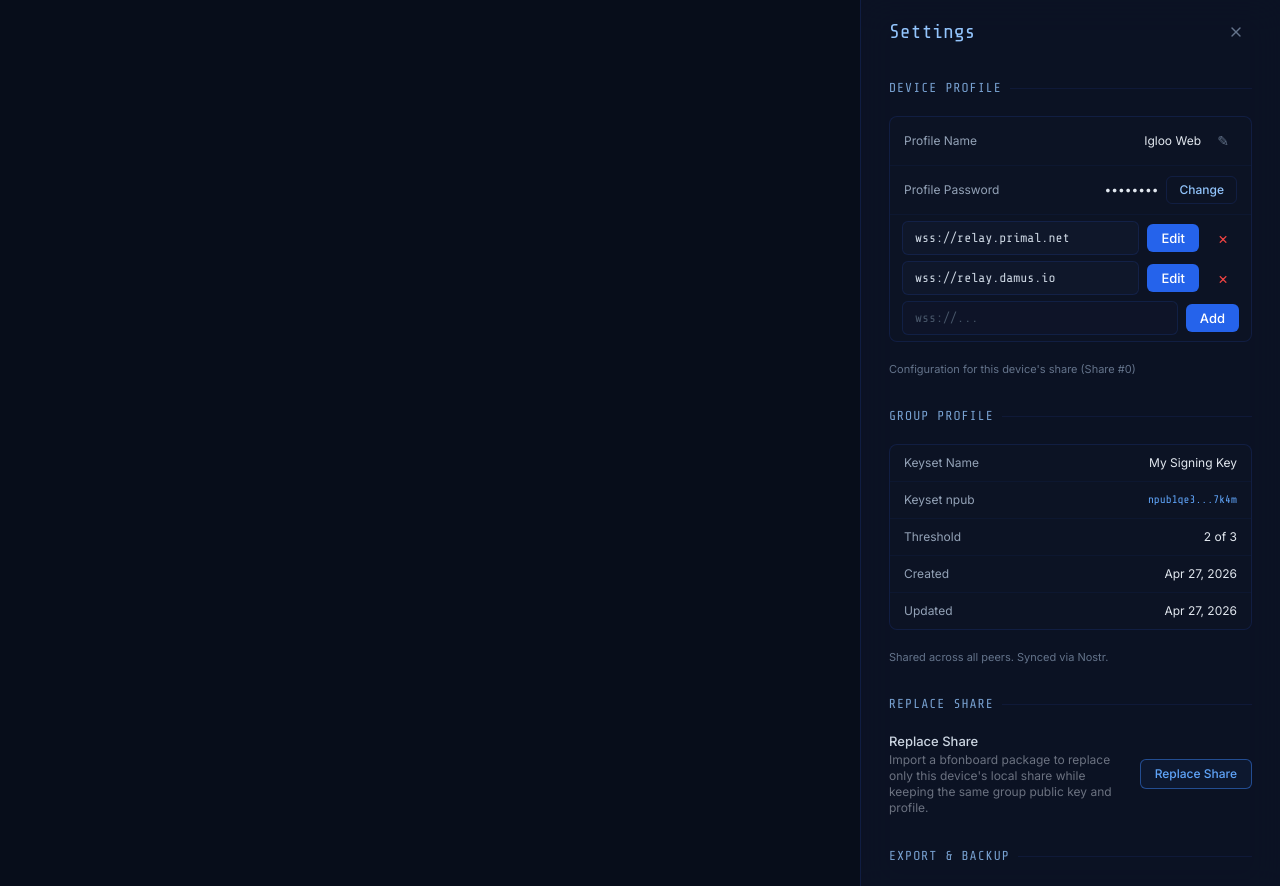
Test case: SettingsSidebar — Relay List (VAL-SETTINGS-003..006, 023) › Add rejects a malformed URL with the canonical inline error (VAL-SETTINGS-004)
In the field named "Add relay URL": (1040, 318) x1=902 y1=301 x2=1178 y2=335, type "relay.example.com"
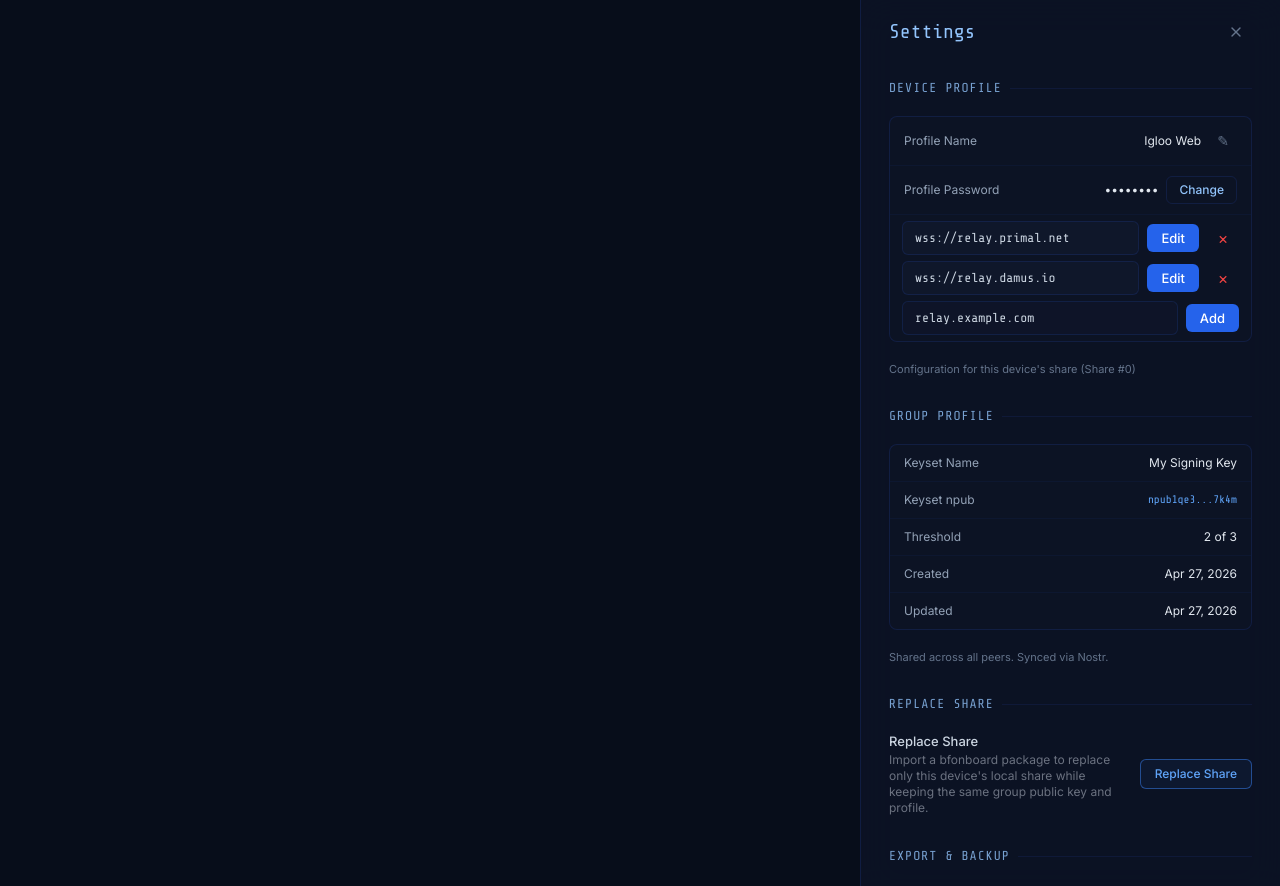
Click the button "Add": (1212, 318) x1=1186 y1=304 x2=1239 y2=332
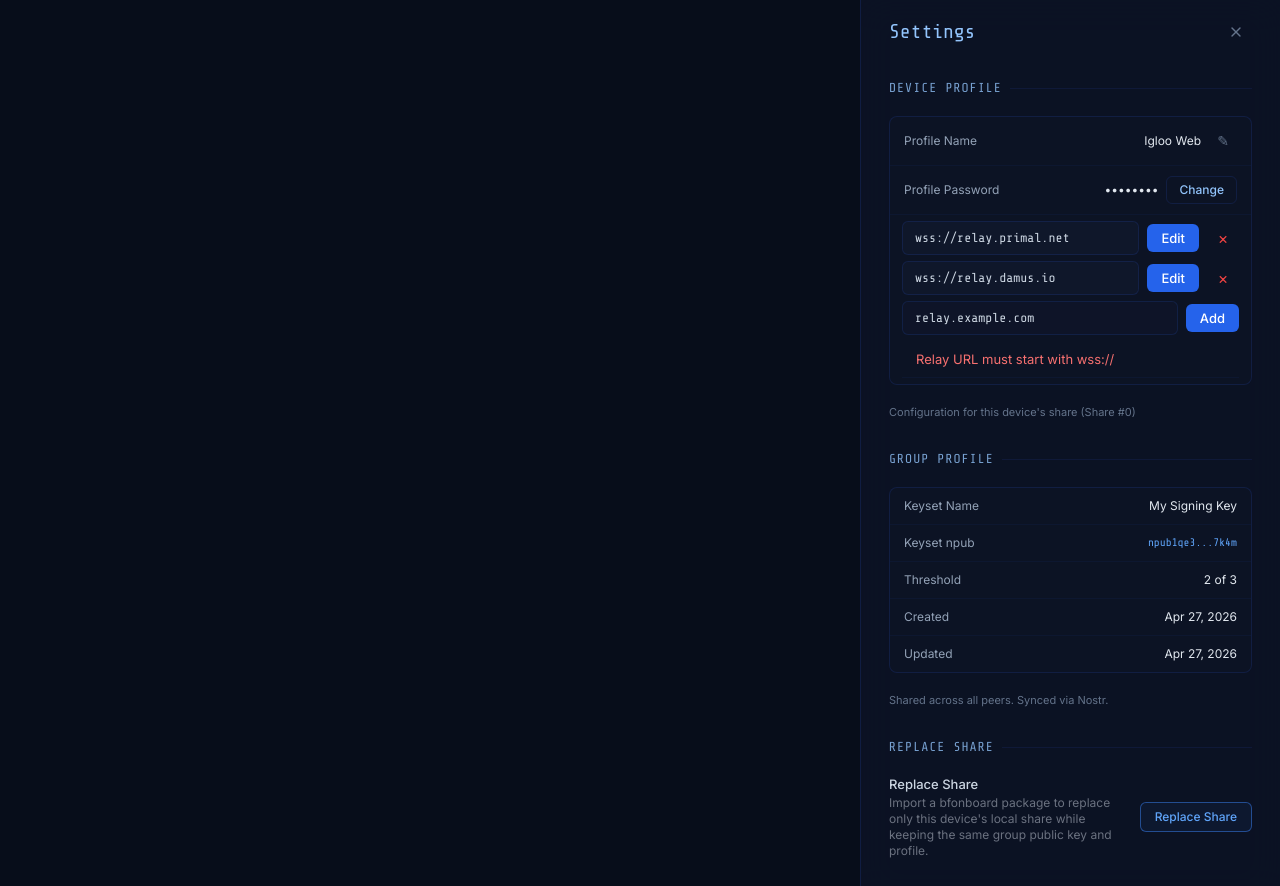
Now the message with test id "settings-relay-add-error" reads "Relay URL must start with wss://", box x1=916 y1=351 x2=1114 y2=367
Replace the text in the field named "Add relay URL" with "wss://": (1040, 318) x1=902 y1=301 x2=1178 y2=335
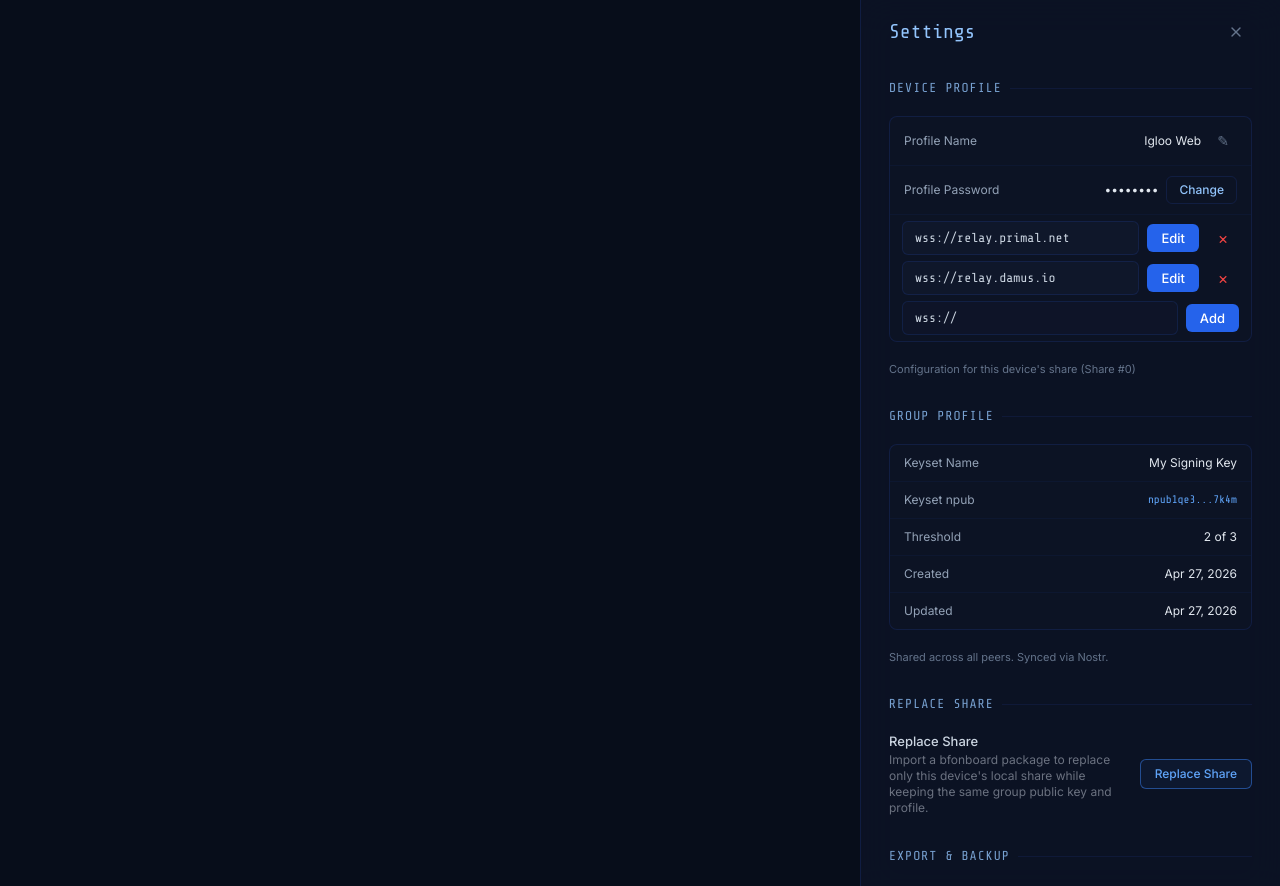
Click the button "Add": (1212, 318) x1=1186 y1=304 x2=1239 y2=332
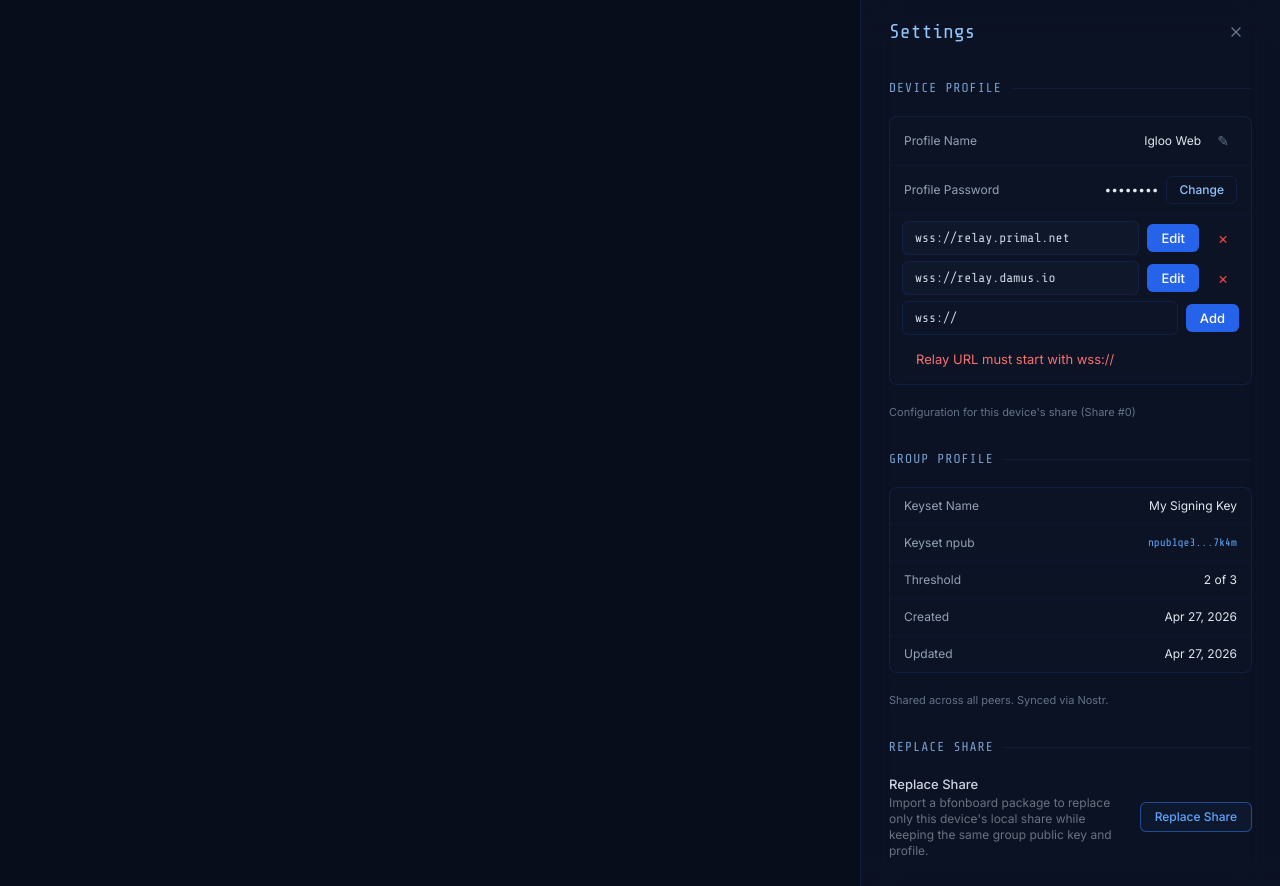
Now the message with test id "settings-relay-add-error" reads "Relay URL must start with wss://", box x1=916 y1=351 x2=1114 y2=367
Replace the text in the field named "Add relay URL" with "not a url": (1040, 318) x1=902 y1=301 x2=1178 y2=335
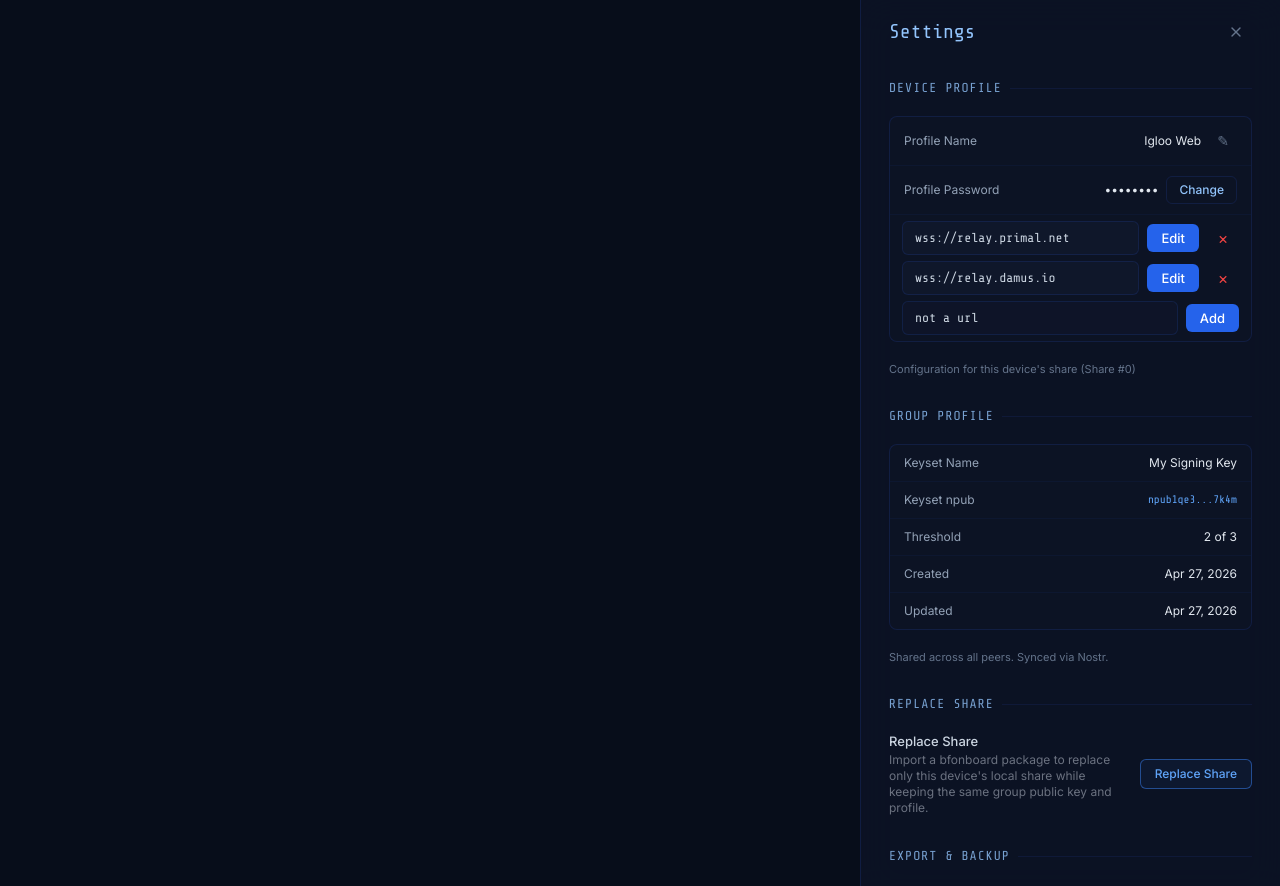
Click the button "Add": (1212, 318) x1=1186 y1=304 x2=1239 y2=332
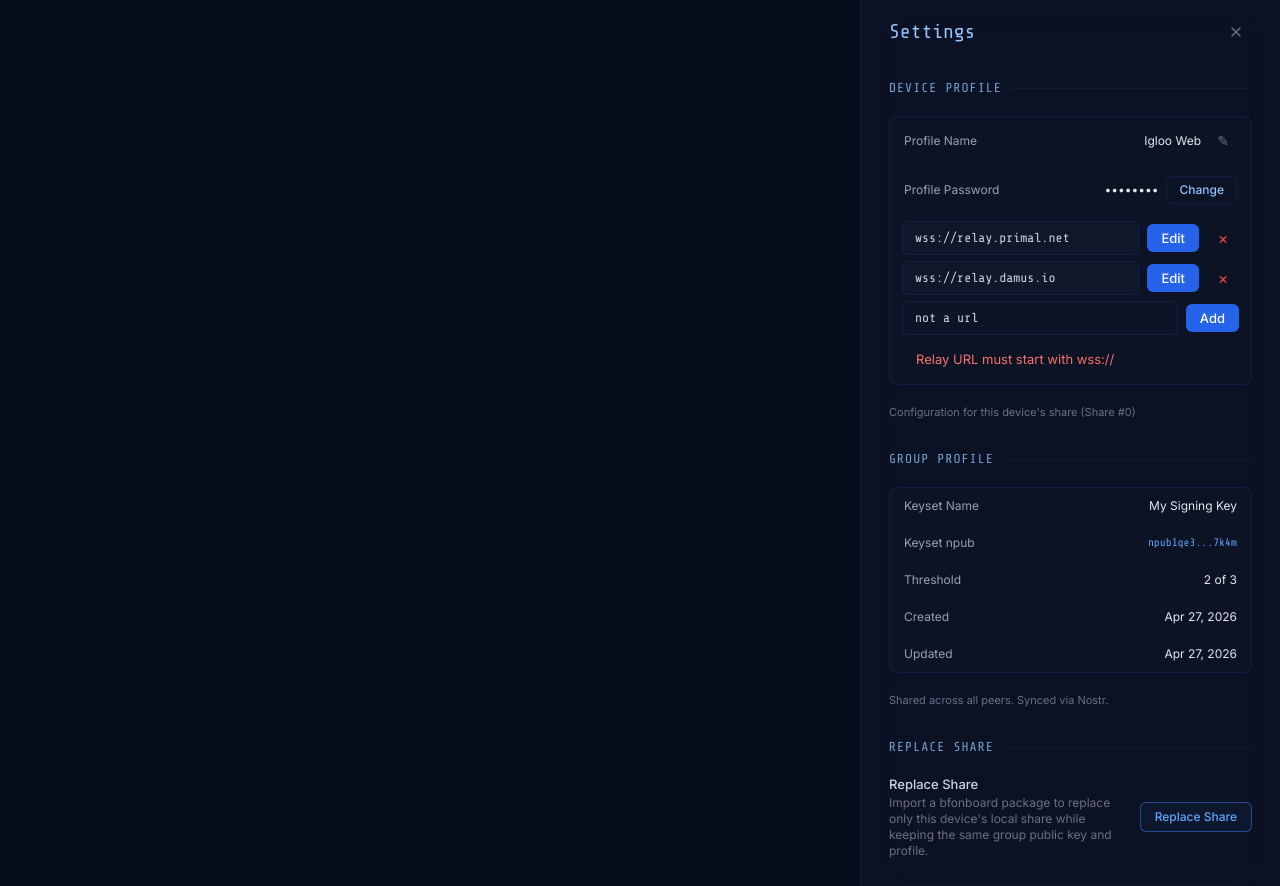
Now the message with test id "settings-relay-add-error" reads "Relay URL must start with wss://", box x1=916 y1=351 x2=1114 y2=367
